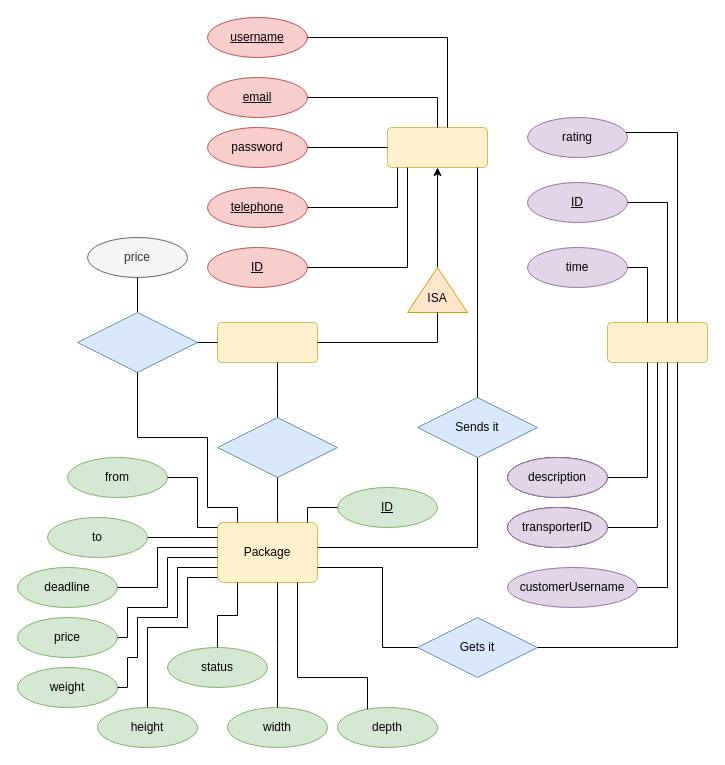
This 725x765 diagram has some shape labels left out. Here are the shapes that lost their labels. From the top down, the centre of each, then its label:
At point (437, 147): "User".
At point (137, 342): "Quotes".
At point (267, 342): "Transporter".
At point (657, 342): "Review".
At point (277, 447): "Delivers it".
